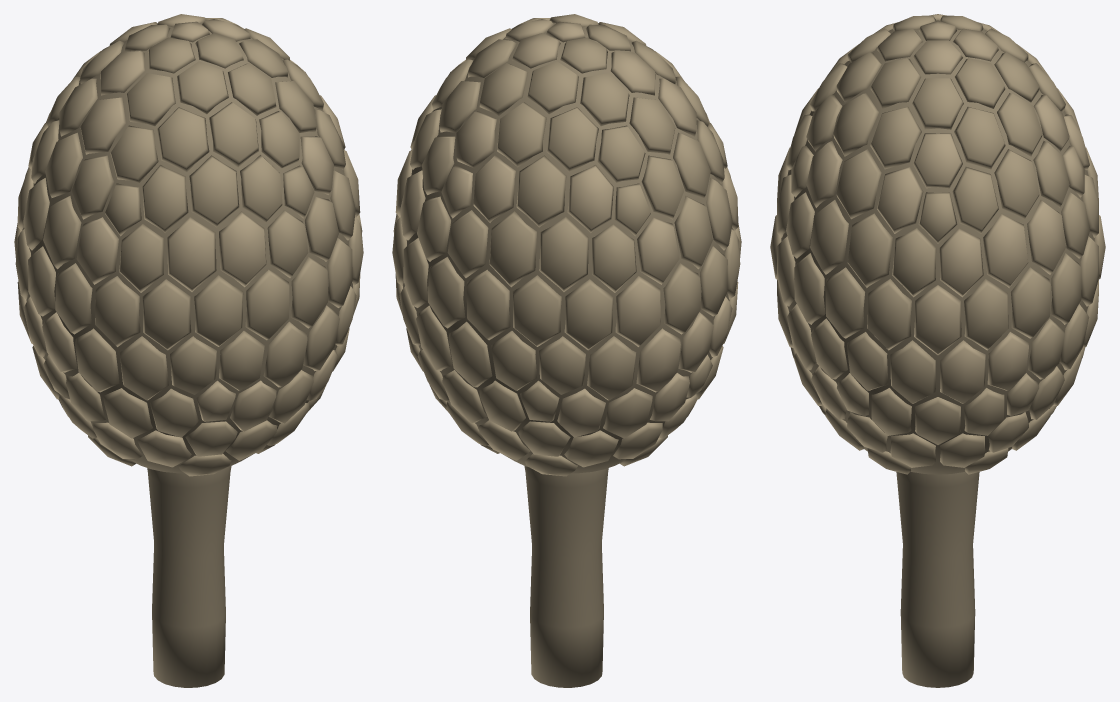
File: williamsonia.glb
3 views of the same model, side by side, from view 1: azimuth 30°, elevation 25°; view 2: azimuth 150°, elevation 25°; view 3: azimuth 270°, elevation 25° (orthographic).
Parts seen in each view (by area): view 1: restrained interseminal surface mosaic, compact ovulate receptacle and short stalk; view 2: restrained interseminal surface mosaic, compact ovulate receptacle and short stalk; view 3: restrained interseminal surface mosaic, compact ovulate receptacle and short stalk.
Boxes of the visible parts, x1=… form: restrained interseminal surface mosaic: x1=14, y1=14, x2=363, y2=476; compact ovulate receptacle and short stalk: x1=22, y1=22, x2=352, y2=687; restrained interseminal surface mosaic: x1=392, y1=14, x2=741, y2=476; compact ovulate receptacle and short stalk: x1=403, y1=22, x2=733, y2=687; restrained interseminal surface mosaic: x1=770, y1=14, x2=1105, y2=474; compact ovulate receptacle and short stalk: x1=781, y1=20, x2=1094, y2=687.
Size of the model in its own units: 0.048 by 0.096 by 0.045.
